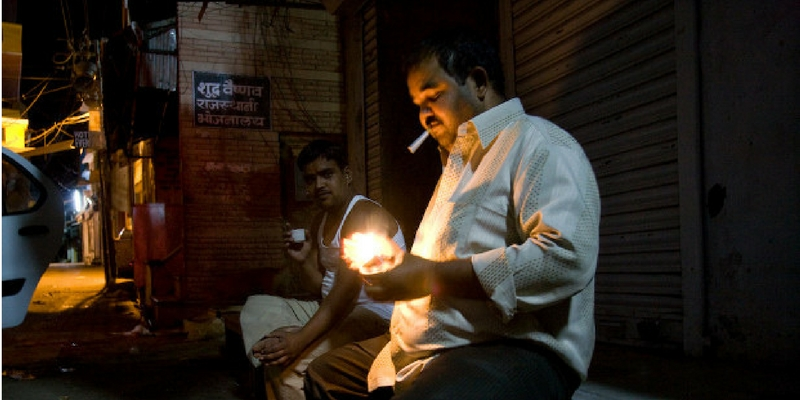cigarette: (407, 129, 431, 153)
